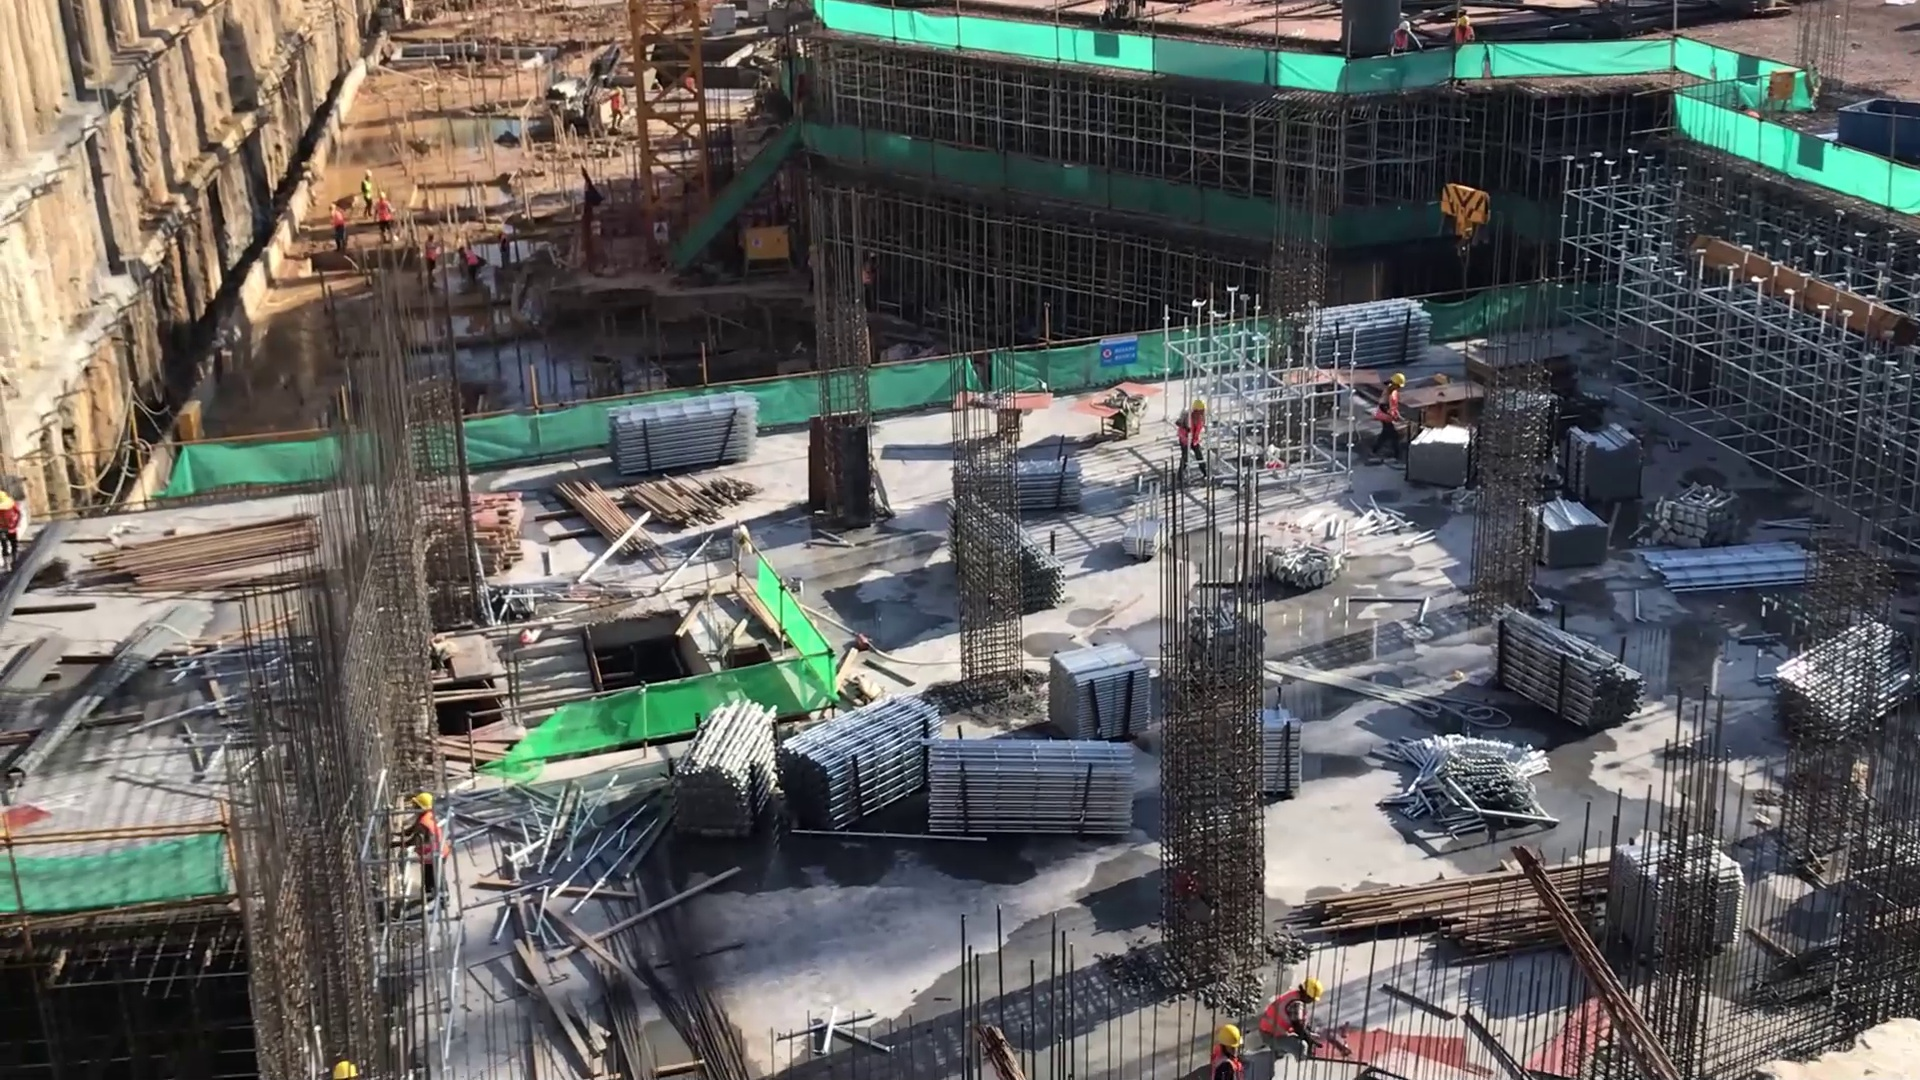cutter: (1072, 376, 1168, 443), (955, 384, 1056, 443)
ebox: (736, 217, 798, 297)
helmet: (1211, 1021, 1248, 1053), (329, 1053, 362, 1080), (1297, 977, 1327, 1006), (1385, 367, 1411, 397), (409, 786, 435, 815), (1184, 389, 1208, 413)
hook: (1429, 178, 1498, 274)
hopper: (1829, 88, 1920, 173)
person: (1258, 965, 1333, 1061), (399, 785, 455, 915), (1365, 362, 1412, 466), (1167, 391, 1216, 483), (1198, 1015, 1247, 1080)
scaffold: (776, 682, 943, 848), (917, 730, 1142, 848), (1490, 602, 1646, 735), (601, 384, 768, 491), (668, 696, 785, 845), (1036, 635, 1154, 755), (1307, 294, 1442, 373), (1565, 417, 1653, 516), (1526, 496, 1617, 569), (1015, 455, 1089, 519)
vest: (1257, 986, 1302, 1040), (408, 814, 449, 869), (1372, 387, 1407, 429), (1172, 412, 1209, 451), (1205, 1048, 1242, 1080)
